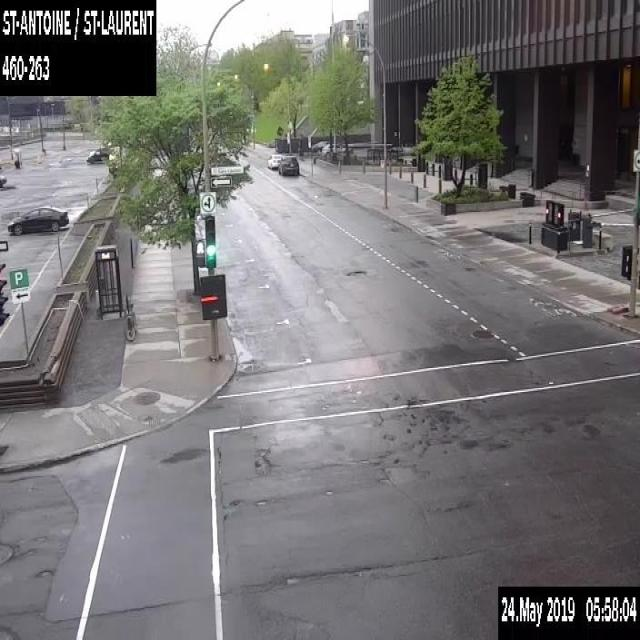construction: (276, 124, 284, 136)
vehicle: (7, 204, 68, 234), (321, 142, 353, 157), (277, 154, 299, 174), (85, 146, 108, 163), (267, 153, 284, 168), (311, 140, 329, 154), (0, 172, 6, 186)
